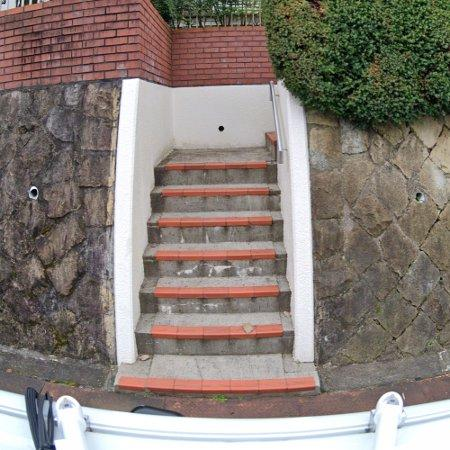stairs: (117, 148, 318, 395)
